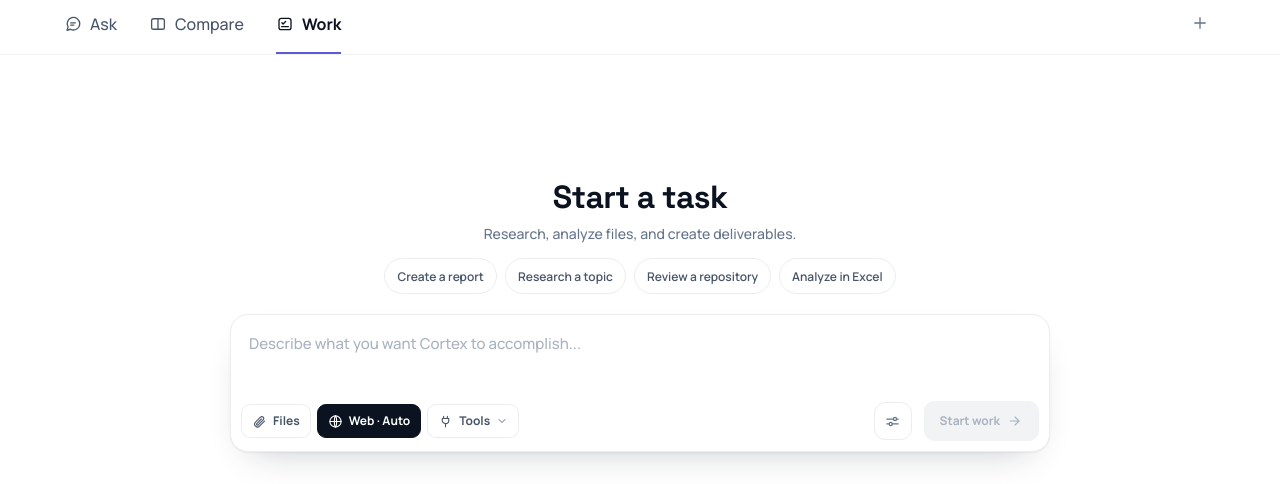
Scenario: WorkPage terminal event synchronization › keeps the new-work introduction concise while preserving detailed prompts
Expected: the heading "Start a task" is shown, [553,177,727,217]
Expected: the text "Research, analyze files, and create deliverables." is shown, [484,223,796,244]
What coordinates should you click on to do the following:
click the button "Create a report"
I would click on:
 (441, 276)
Its box is [384,258,497,294].
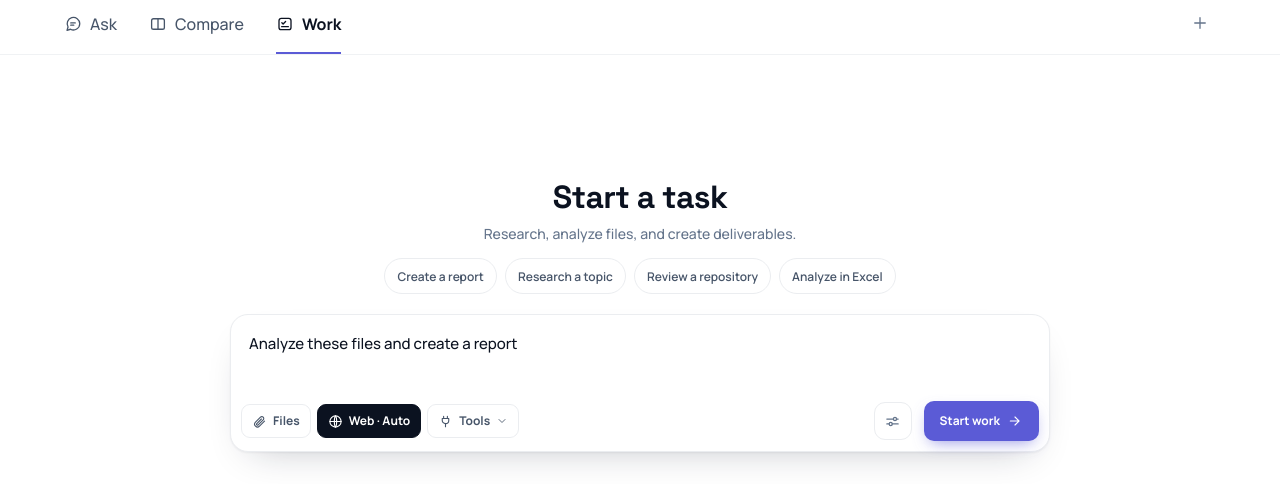
Now the text box named "Work goal" holds "Analyze these files and create a report", box [231,315,1049,393]
